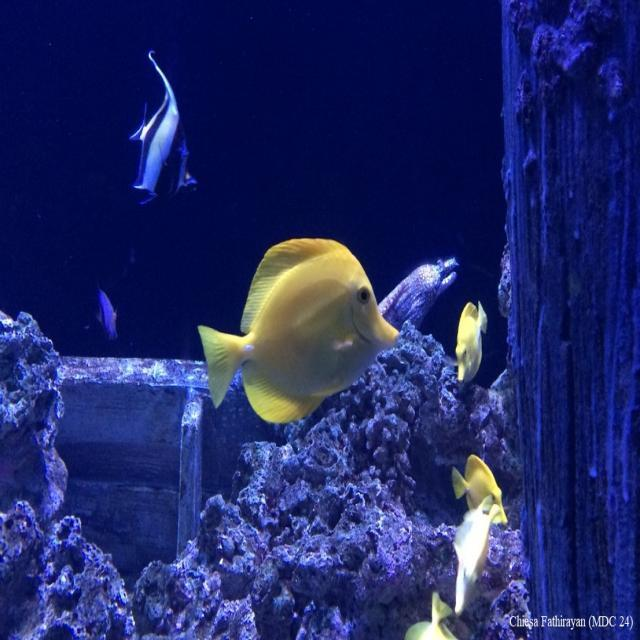TangFish: (194, 229, 406, 430), (452, 293, 489, 388)
